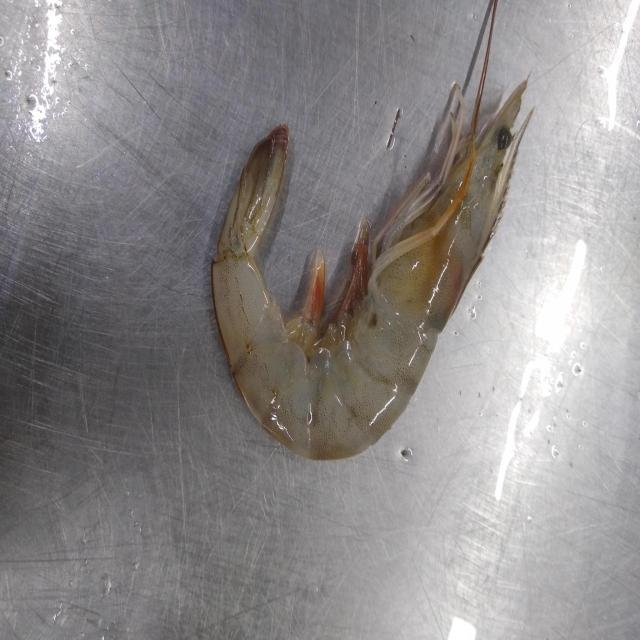shrimp: (211, 6, 533, 460)
